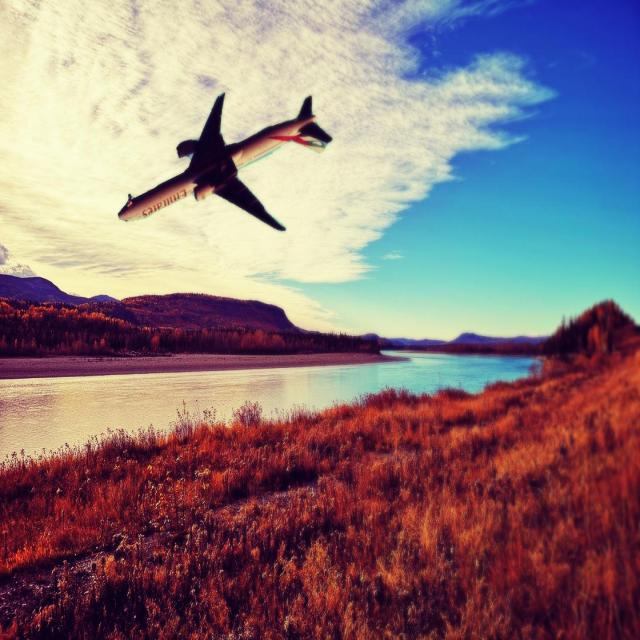airplane: (117, 90, 332, 232)
